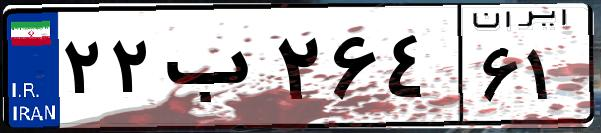1: (525, 38, 570, 115)
2: (270, 28, 330, 110), (57, 26, 110, 100), (110, 28, 158, 98)
4: (385, 28, 445, 110)
6: (330, 28, 385, 110), (475, 38, 525, 113)
ب: (158, 20, 270, 120)
